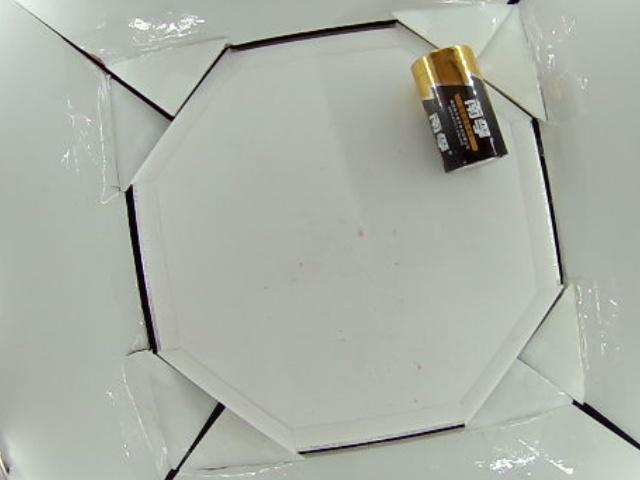Battery: (412, 42, 507, 173)
